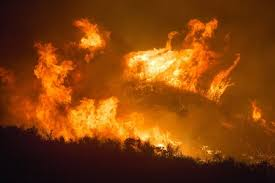fire: (25, 16, 133, 153), (124, 27, 218, 94)
